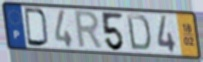4: (156, 14, 178, 55), (54, 9, 75, 50)
5: (99, 10, 126, 52)
D: (23, 7, 51, 49), (125, 13, 152, 53)
R: (74, 10, 105, 52)
